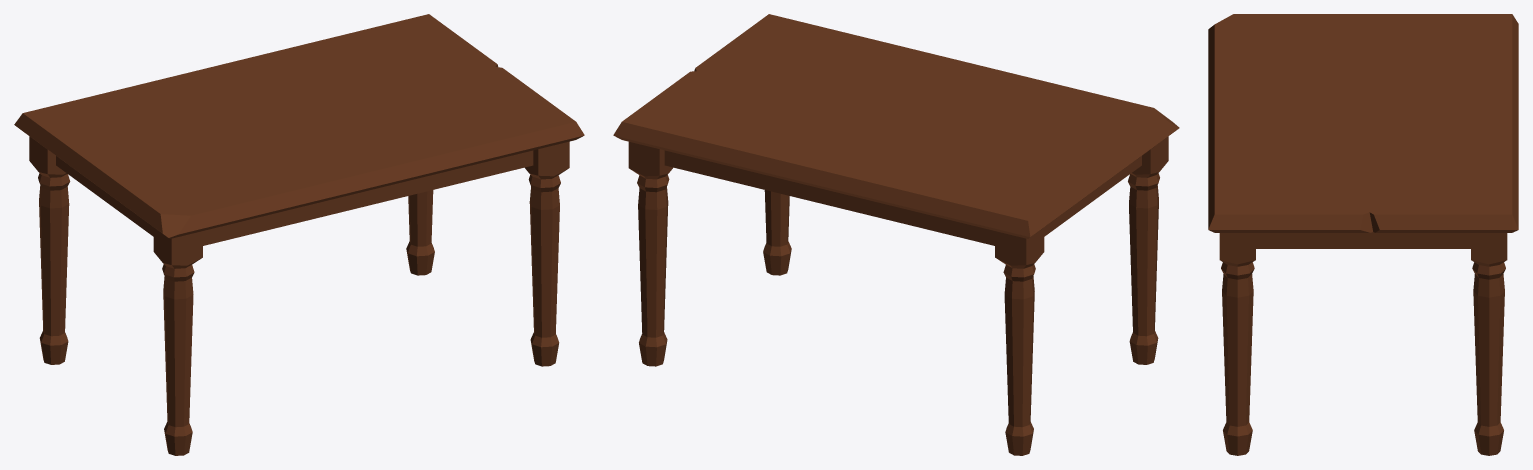
The model's file is WoodenDinnerTable.fbx.
The picture shows the model from 3 angles, left to right: view 1: azimuth 30°, elevation 25°; view 2: azimuth 150°, elevation 25°; view 3: azimuth 270°, elevation 25°; orthographic projection.
Visible parts, largest first — view 1: WoodenDinnerTable; view 2: WoodenDinnerTable; view 3: WoodenDinnerTable.
Boxes of the visible parts, x1,y1,x2,y2 form: WoodenDinnerTable: (14, 14, 584, 455); WoodenDinnerTable: (613, 14, 1179, 455); WoodenDinnerTable: (1208, 14, 1518, 455).
Bounding box in the file's own units: 366 × 204 × 233.
